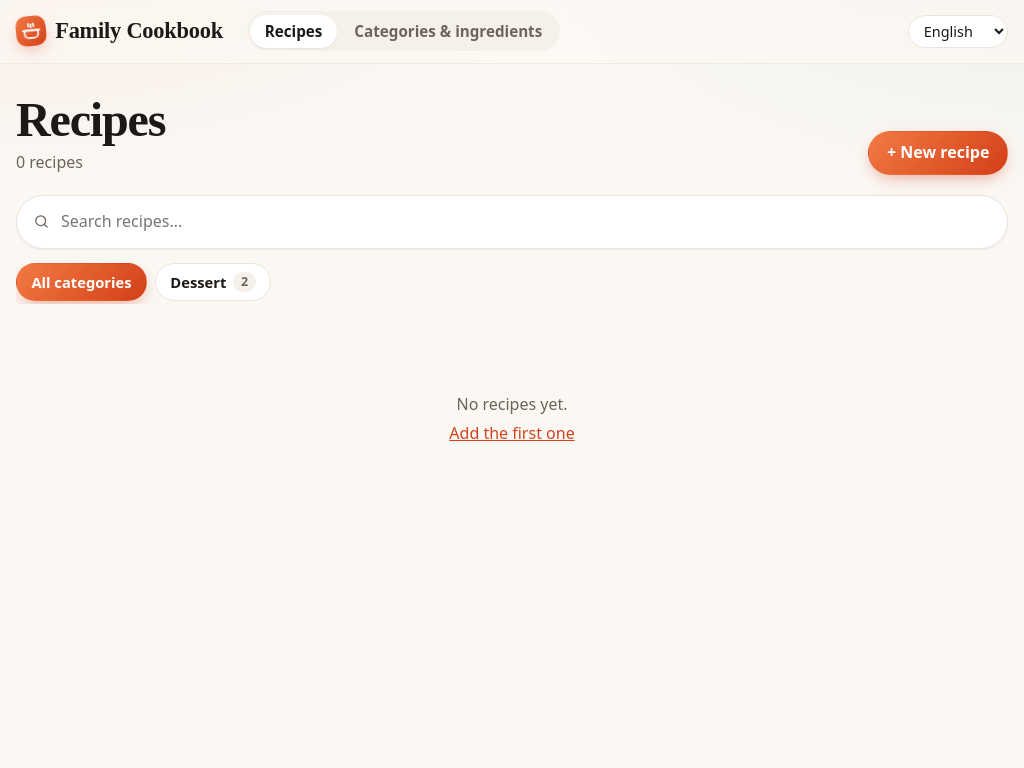
Categories & ingredients page › is linked from the header
Click the link "Categories & ingredients" at (448, 31), box [340,15,557,48]
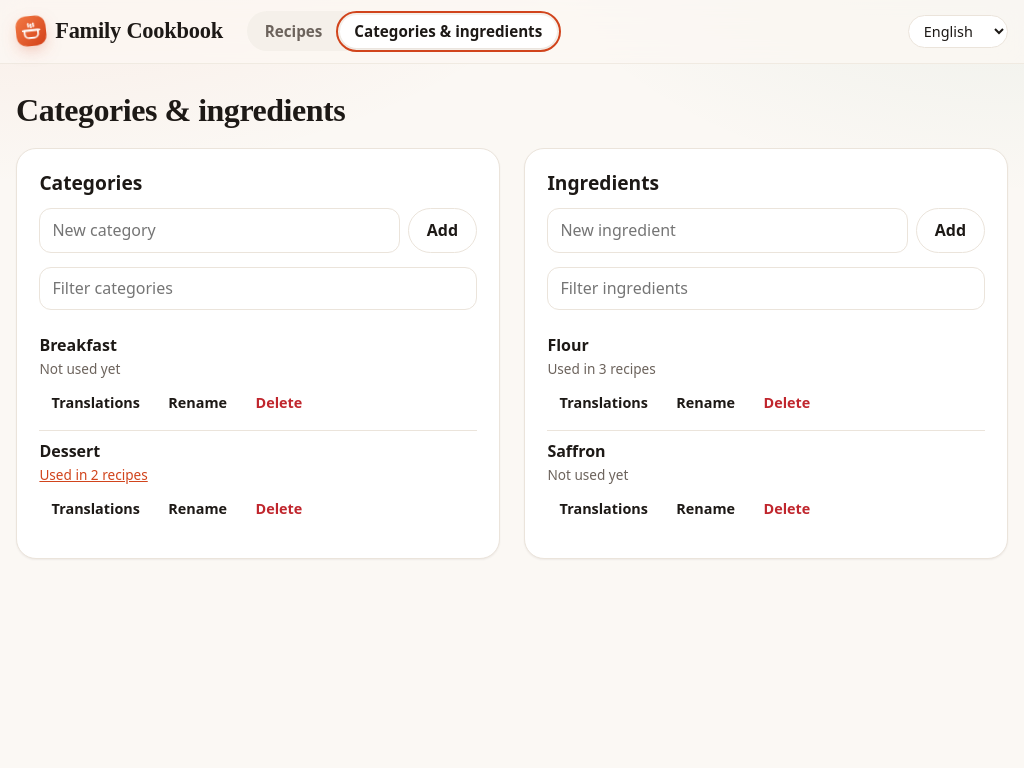
Now the heading "Categories & ingredients" is shown, box [16,92,345,128]
